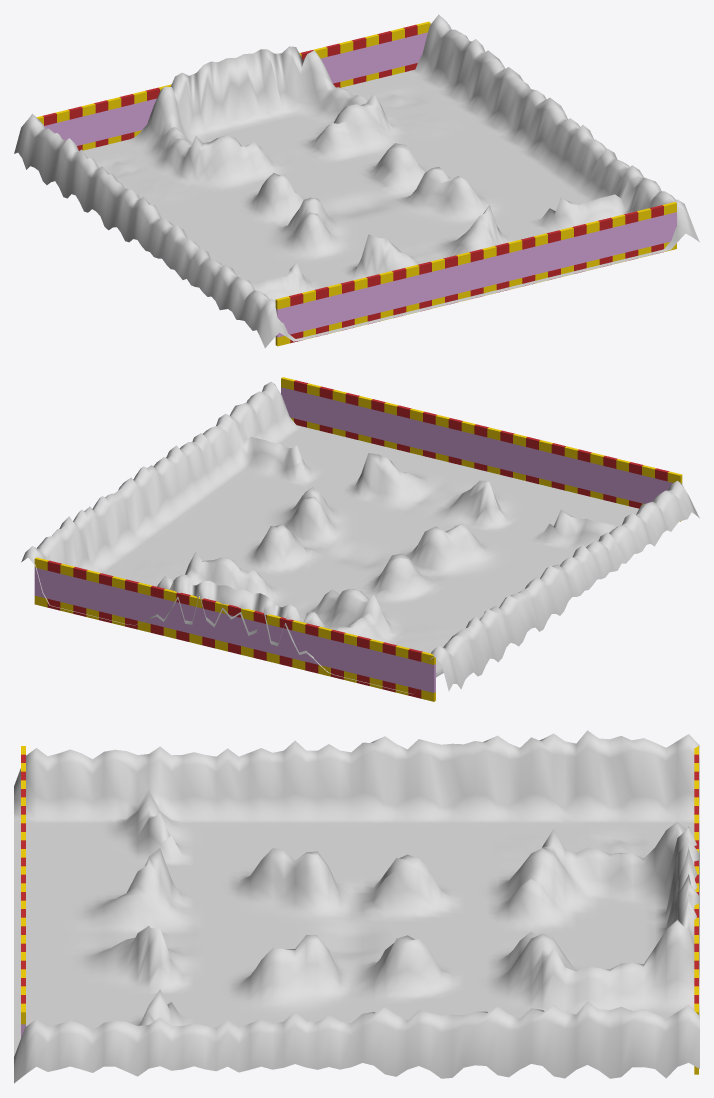
File: space_station.glb
3 views of the same model, one above another, from view 1: azimuth 30°, elevation 25°; view 2: azimuth 150°, elevation 25°; view 3: azimuth 270°, elevation 25° (orthographic). The views are drawn at different scales.
Visible parts, largest first — view 1: terrain, doorRight, doorLeft; view 2: terrain, doorLeft, doorRight; view 3: terrain, doorRight, doorLeft.
Boxes of the visible parts, <box> form: terrain: <box>14,14,699,348</box>; doorRight: <box>275,202,676,346</box>; doorLeft: <box>37,21,430,150</box>; terrain: <box>21,381,699,694</box>; doorLeft: <box>34,557,435,701</box>; doorRight: <box>281,377,682,521</box>; terrain: <box>14,730,699,1083</box>; doorRight: <box>21,746,25,1037</box>; doorLeft: <box>694,746,698,1074</box>.
Size of the model in its own units: 120 by 16.74 by 120.
